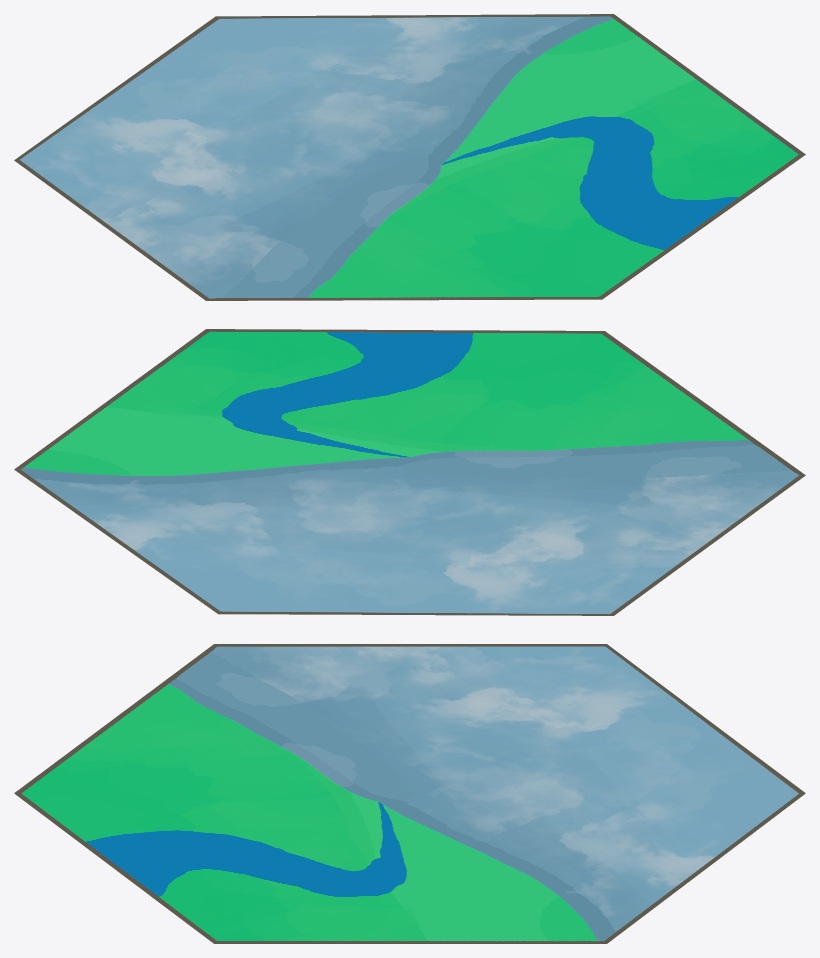
The model's file is Floodplain Tile.fbx.
3 renders of one model, top to bottom at view 1: azimuth 30°, elevation 25°; view 2: azimuth 150°, elevation 25°; view 3: azimuth 270°, elevation 25°, orthographic. The views are drawn at different scales.
Parts seen in each view (by area): view 1: Plane; view 2: Plane; view 3: Plane.
Part boxes in pixels (bbox=[...]): Plane: bbox=[14, 14, 805, 300]; Plane: bbox=[14, 329, 805, 615]; Plane: bbox=[14, 644, 805, 943].
Bounding box in the file's own units: 179 × 3.26e-05 × 200.
1 material, 1 textured.
